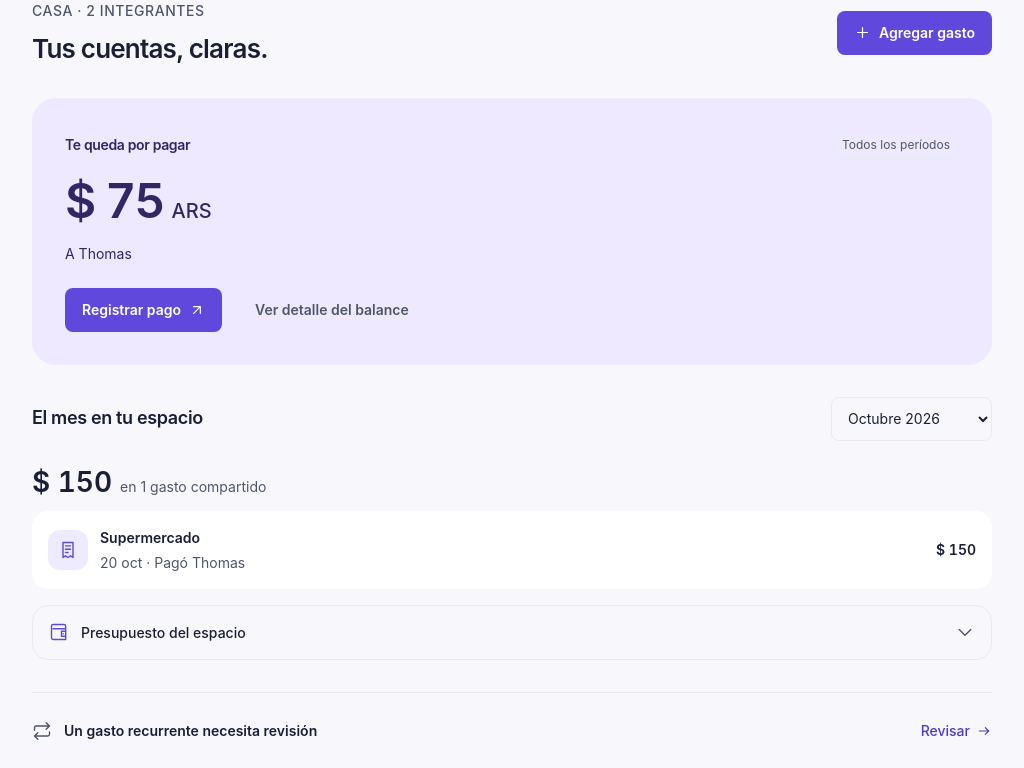
Scenario: separa el mes del balance acumulado y conserva el detalle real de gastos
The width and height of the screenshot is (1024, 768).
Click the button with aria-label "Ver detalle de Supermercado": (68, 550) [32,510,992,588]
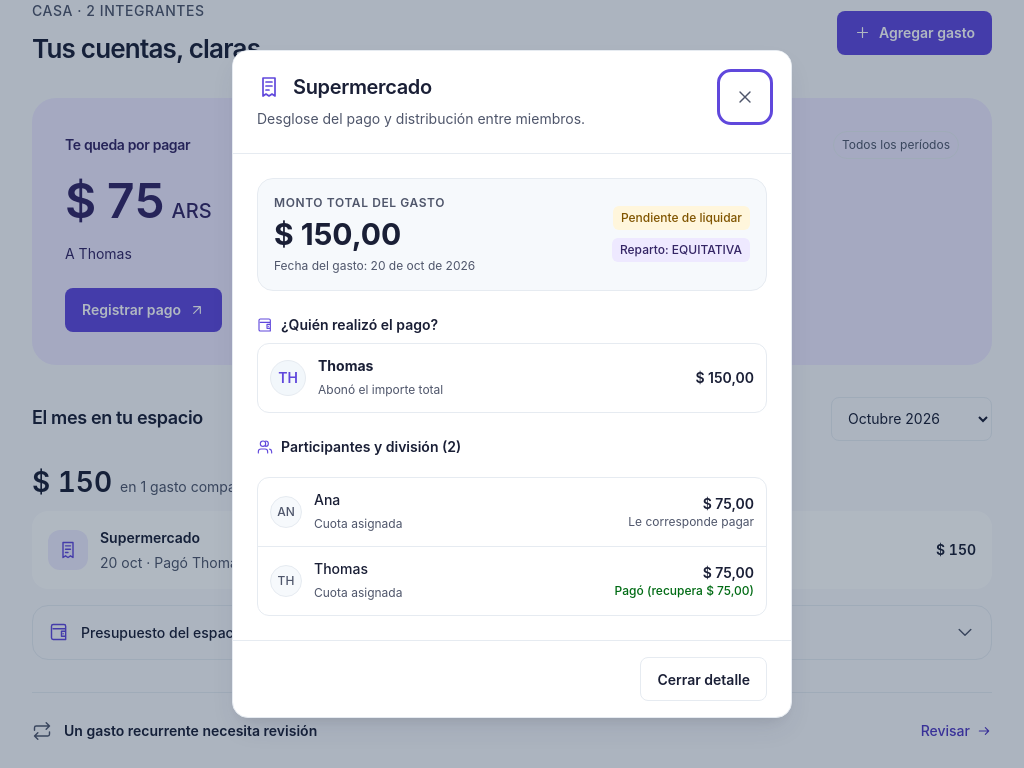
Check: the dialog "Supermercado" is shown, box [232,50,792,718]
Check: the heading "Participantes y división (2)" is shown, box [257,438,461,458]
Click the button "Cerrar detalle": (704, 680) [640,658,767,702]
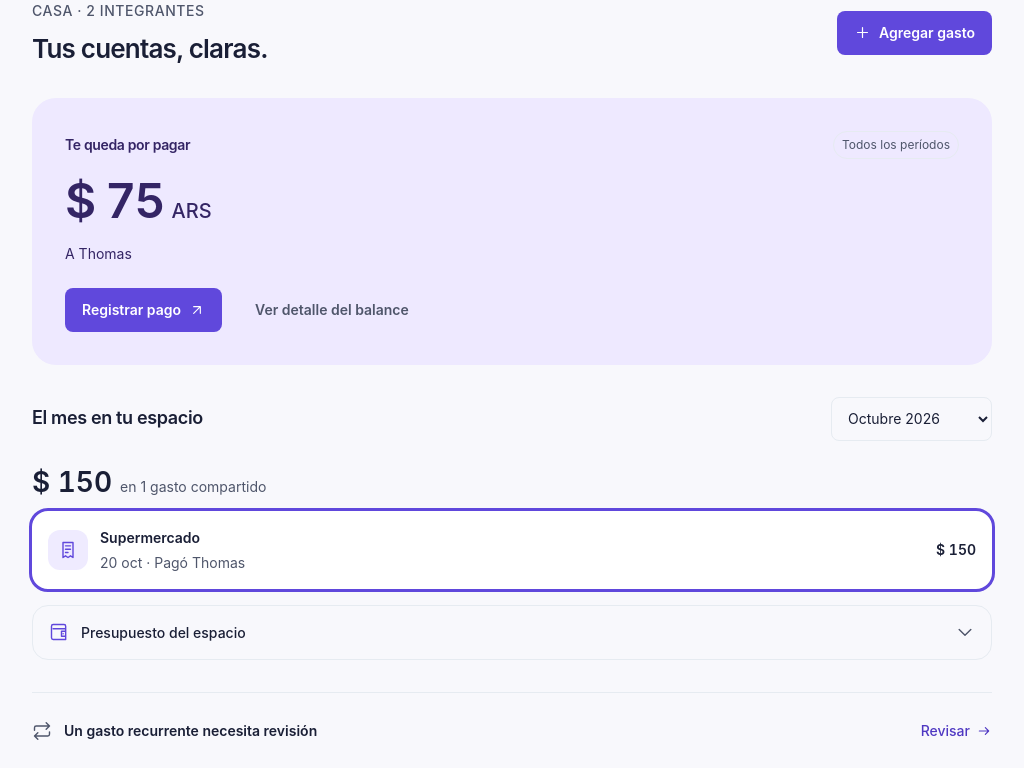
Select "Septiembre 2026" in the dropdown named "Mes de los gastos": (912, 418) [831,396,992,440]
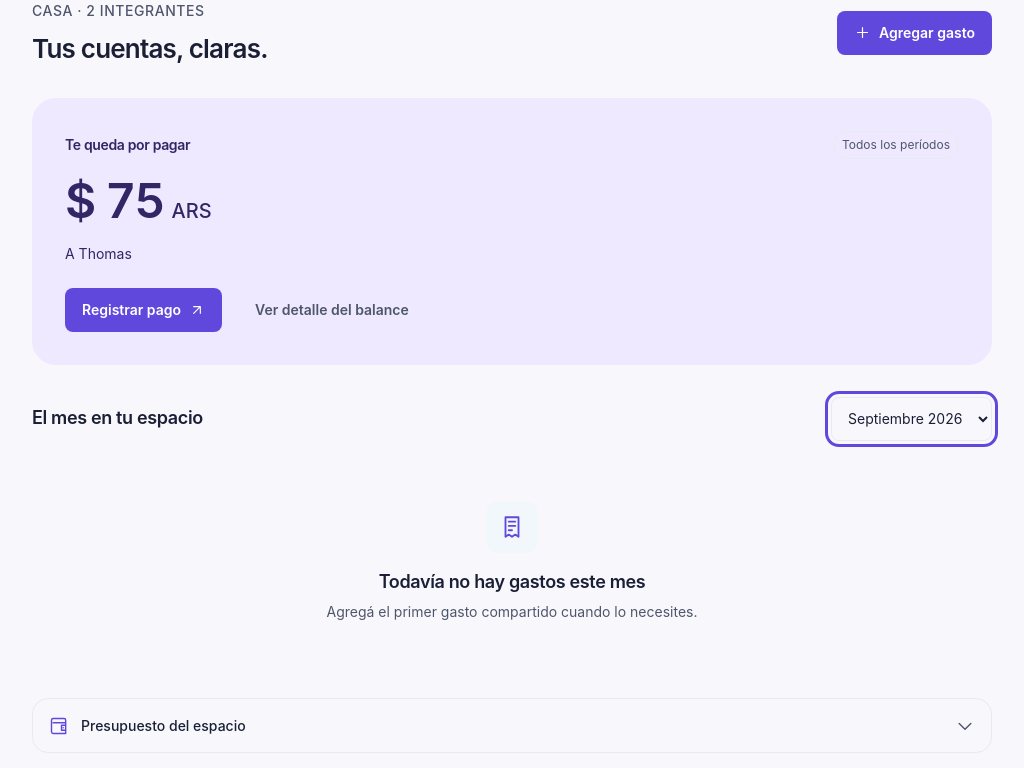
Check: the text "A Thomas" is shown, box [65,244,132,262]
Check: the heading "Todavía no hay gastos este mes" is shown, box [379,570,645,592]
